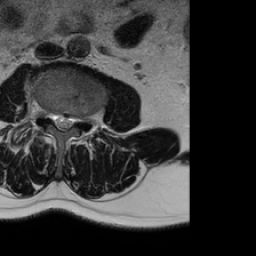CCS_stenosis: (60, 108, 67, 135)
LFS_stenosis: (77, 110, 84, 129)
LLS_normal: (68, 110, 76, 129)
RFS_stenosis: (45, 105, 52, 122)
RLS_normal: (52, 108, 60, 129)
